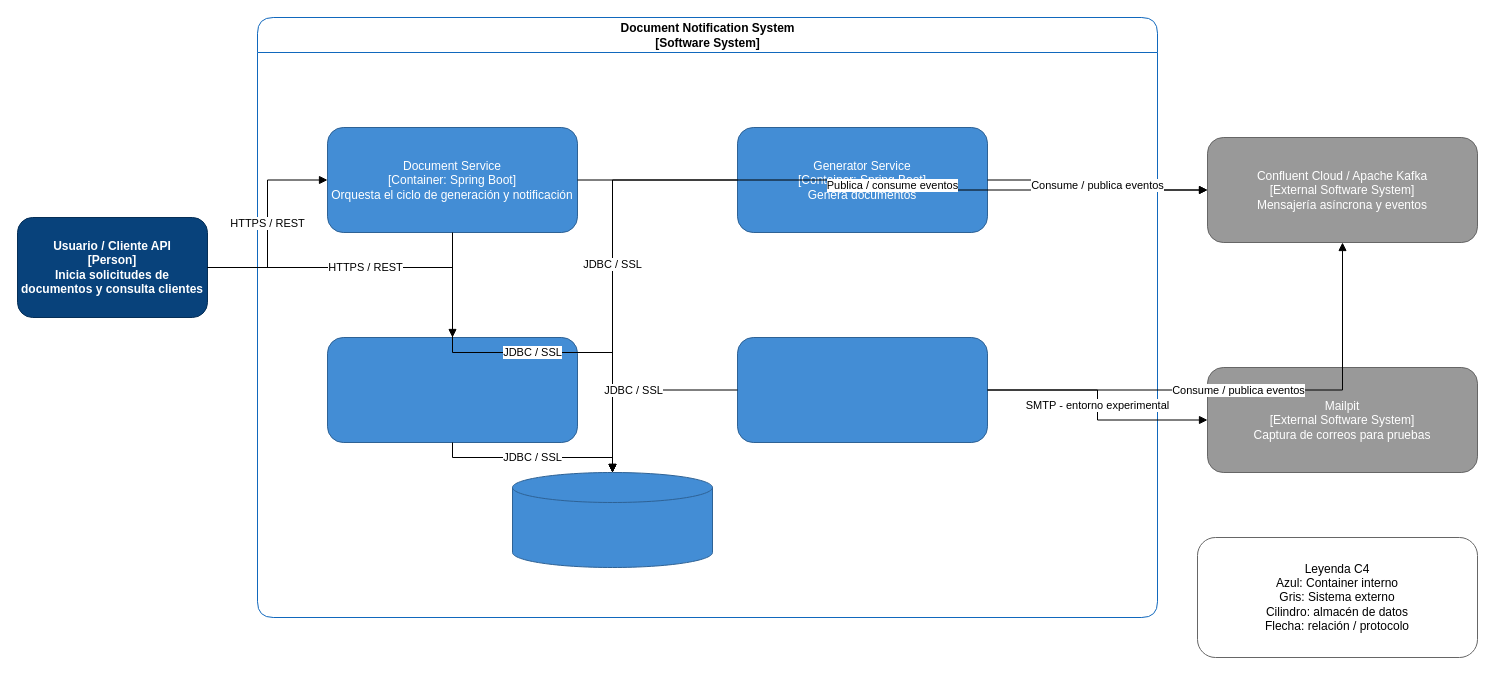
Image size: 1495x675. Some labels were removed from this diagram. Here are the shapes that lost their labels. From the top down, the centre of each, then its label:
the point at 452,389: Customer Service [Container: Spring Boot] Gestiona información de clientes
the point at 862,389: Notification Service [Container: Spring Boot] Procesa notificaciones por correo
the point at 612,520: PostgreSQL [Database] Persistencia de estados, SAGA y Outbox
